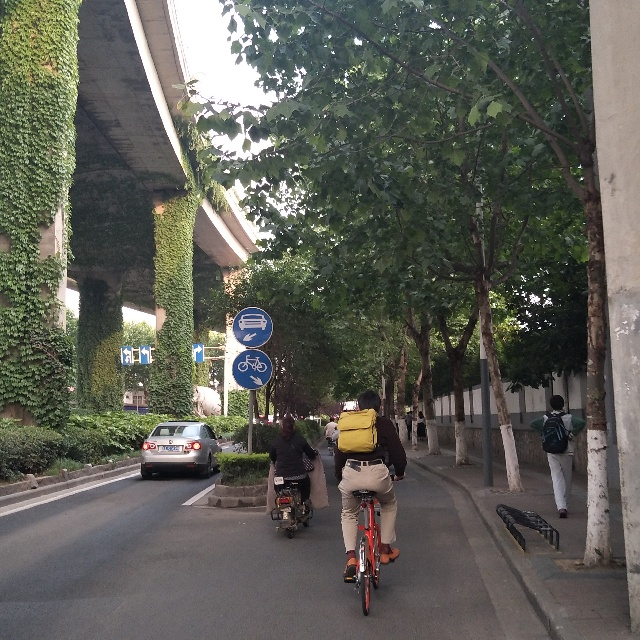left: (137, 347, 151, 365)
right: (190, 341, 205, 368)
